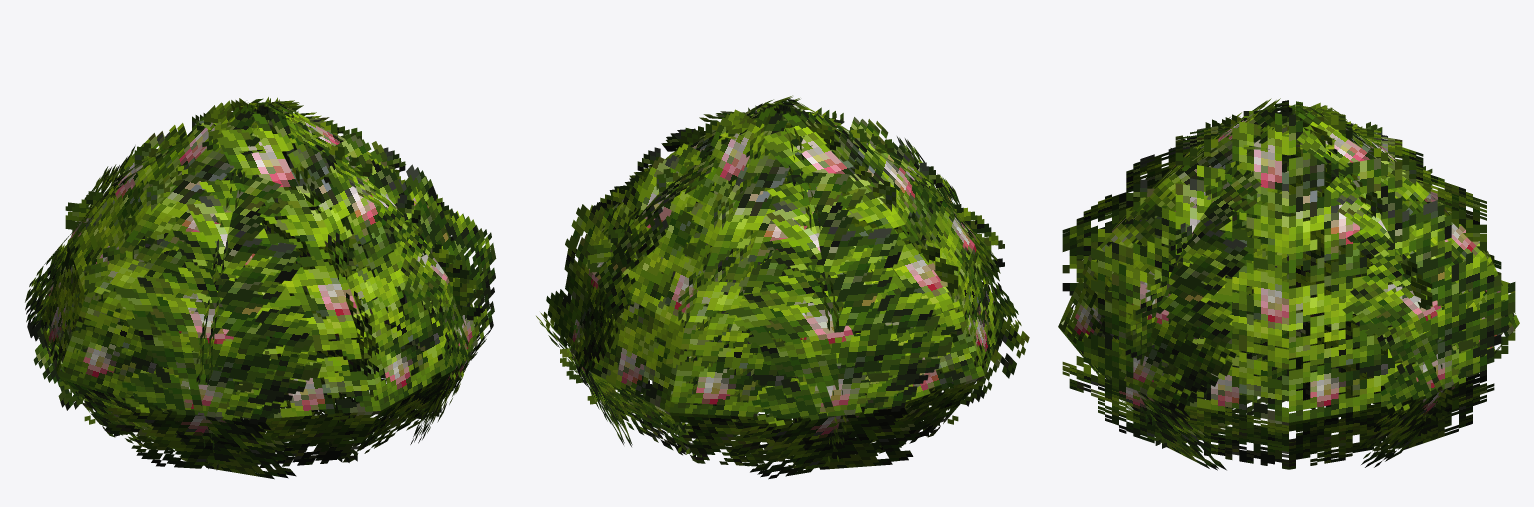
File: bush02_spring6.glb
3 renders of one model, left to right at view 1: azimuth 30°, elevation 25°; view 2: azimuth 150°, elevation 25°; view 3: azimuth 270°, elevation 25°, orthographic.
Visible parts, largest first — view 1: bush02; view 2: bush02; view 3: bush02.
Boxes of the visible parts, x1,y1,x2,y2 form: bush02: (25, 97, 496, 479); bush02: (536, 95, 1029, 479); bush02: (1058, 98, 1519, 470).
Bounding box in the file's own units: 1.53 × 1.05 × 1.53.
Materials: 1 (1 with a texture image).
